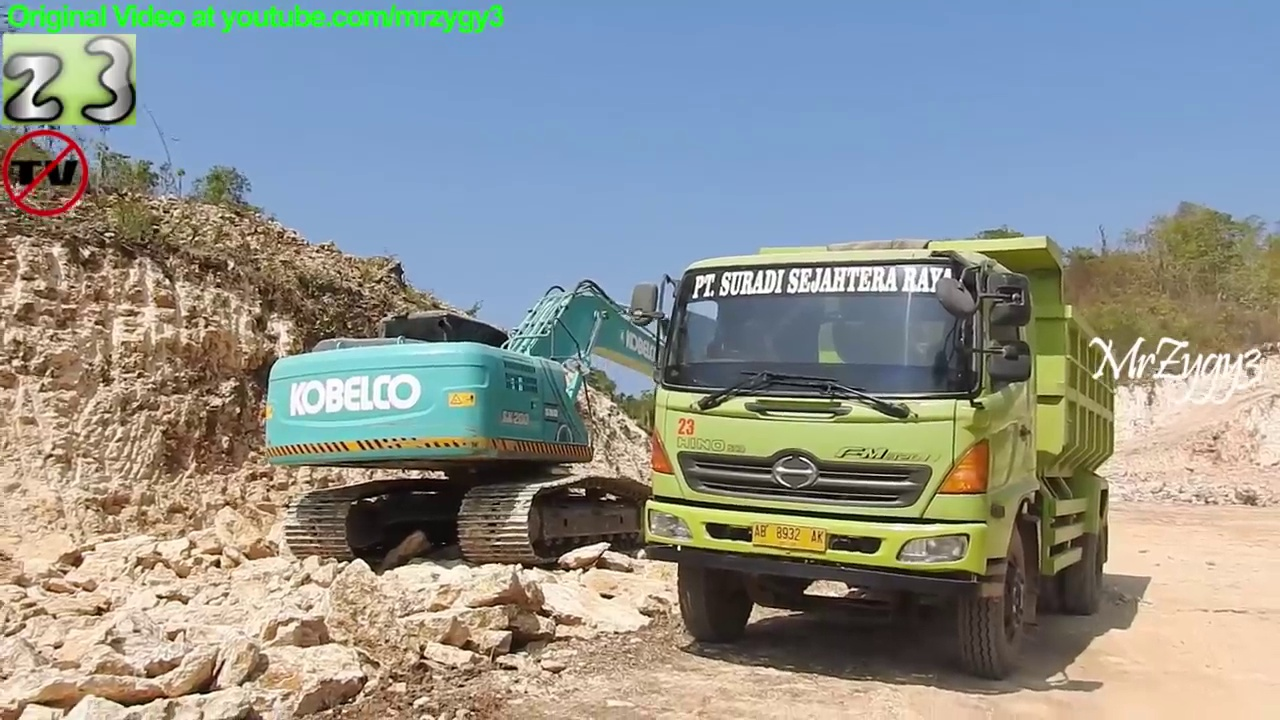excavator: (257, 274, 940, 581)
truck: (623, 228, 1126, 688)
